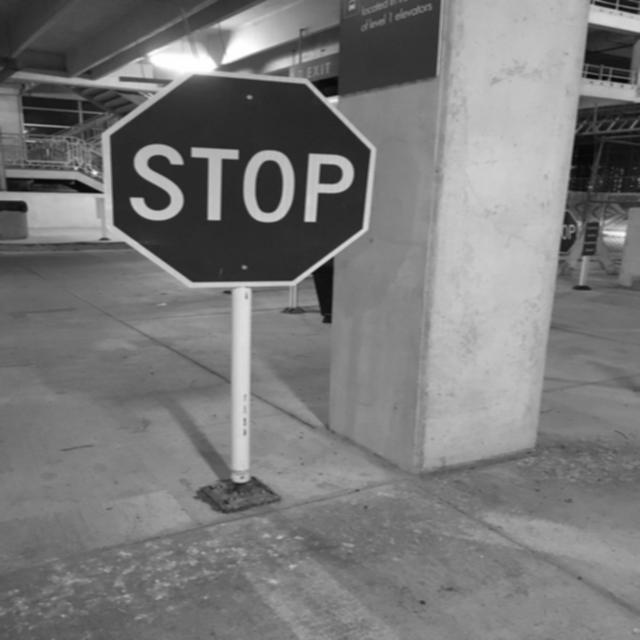Stop-sign: (95, 26, 392, 307)
